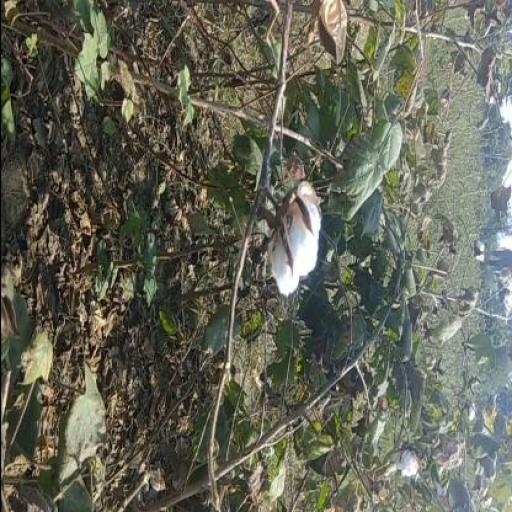cotton_ready: (242, 178, 332, 306)
